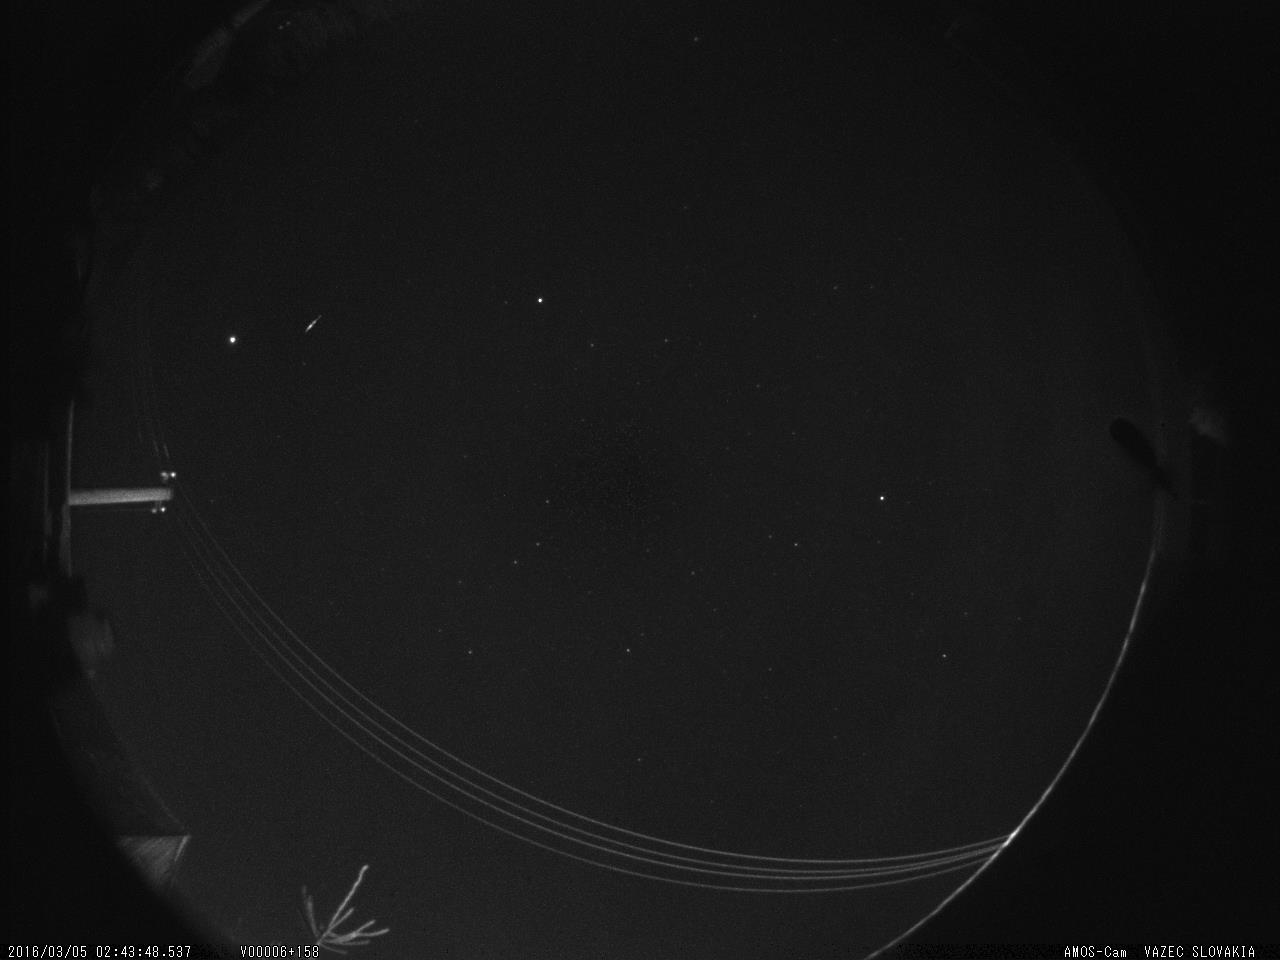meteor: (301, 313, 329, 334)
